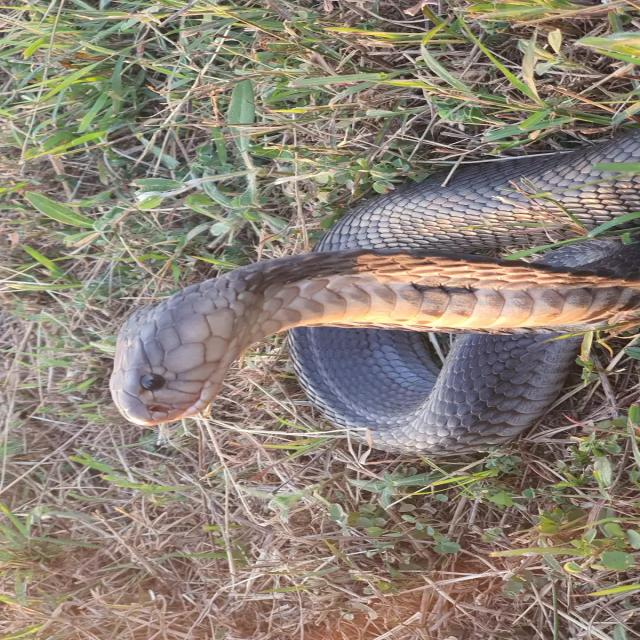Venomous: (78, 63, 640, 509)
